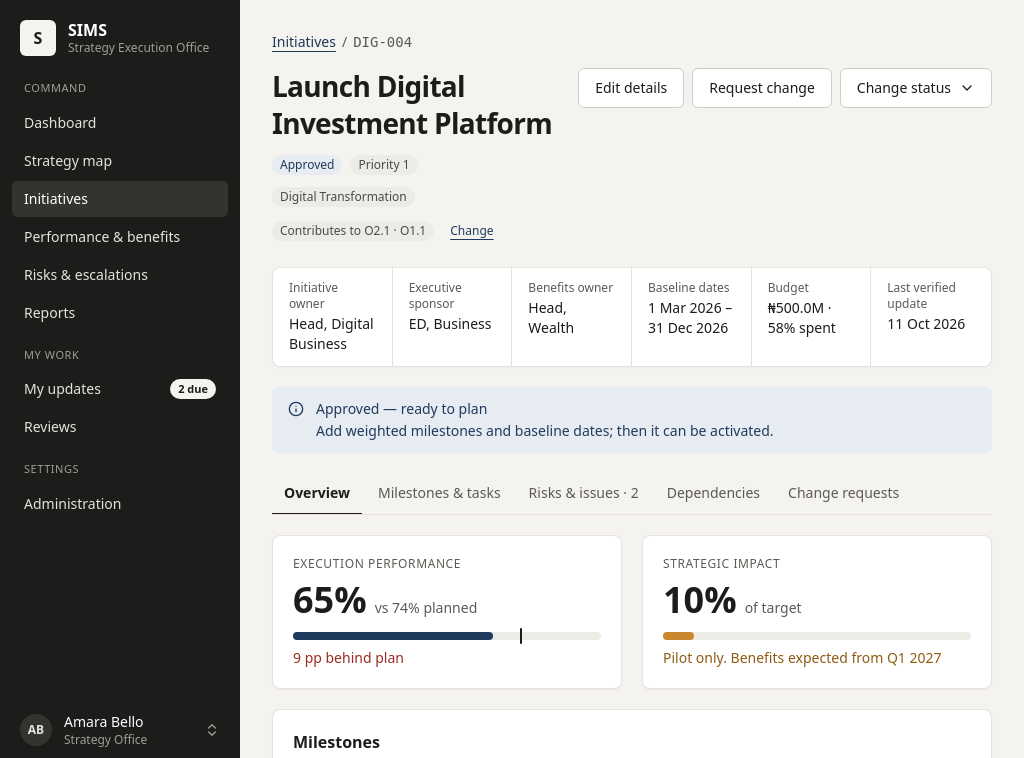
Test: Initiative detail › explains why a move was refused, without closing
Click the button "Change status" at (916, 88), box [840,68,992,108]
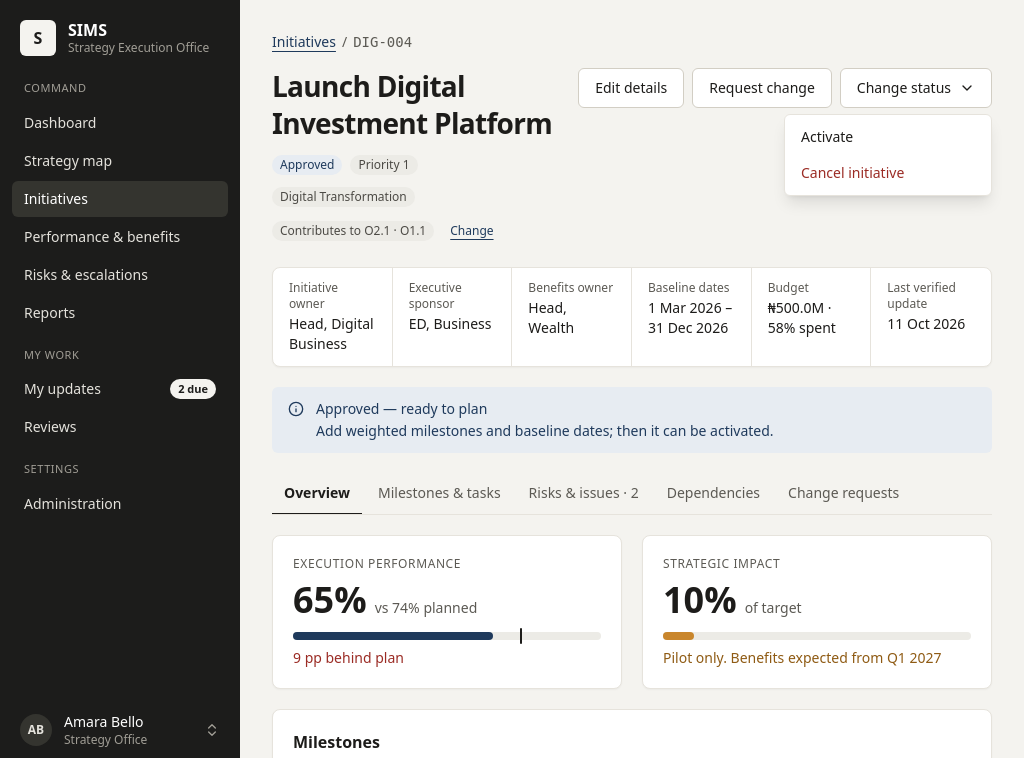
Click the menu item "Activate" at (827, 136), box [801,127,853,146]
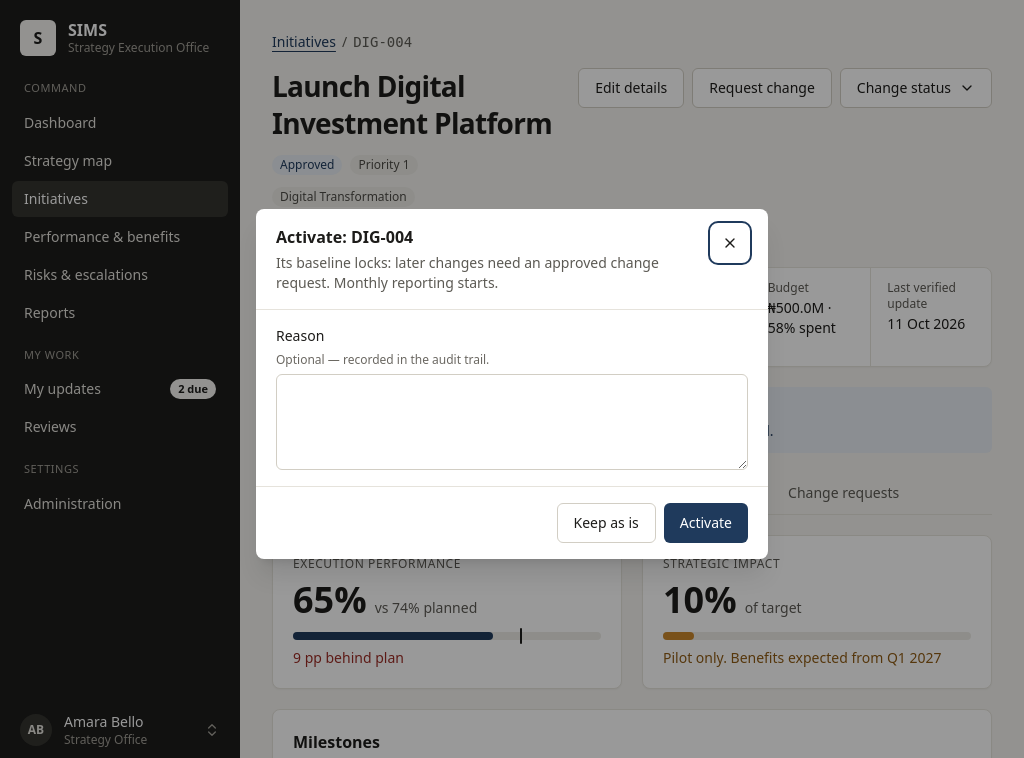
Click the button "Activate" at (706, 523), box [664,503,748,543]
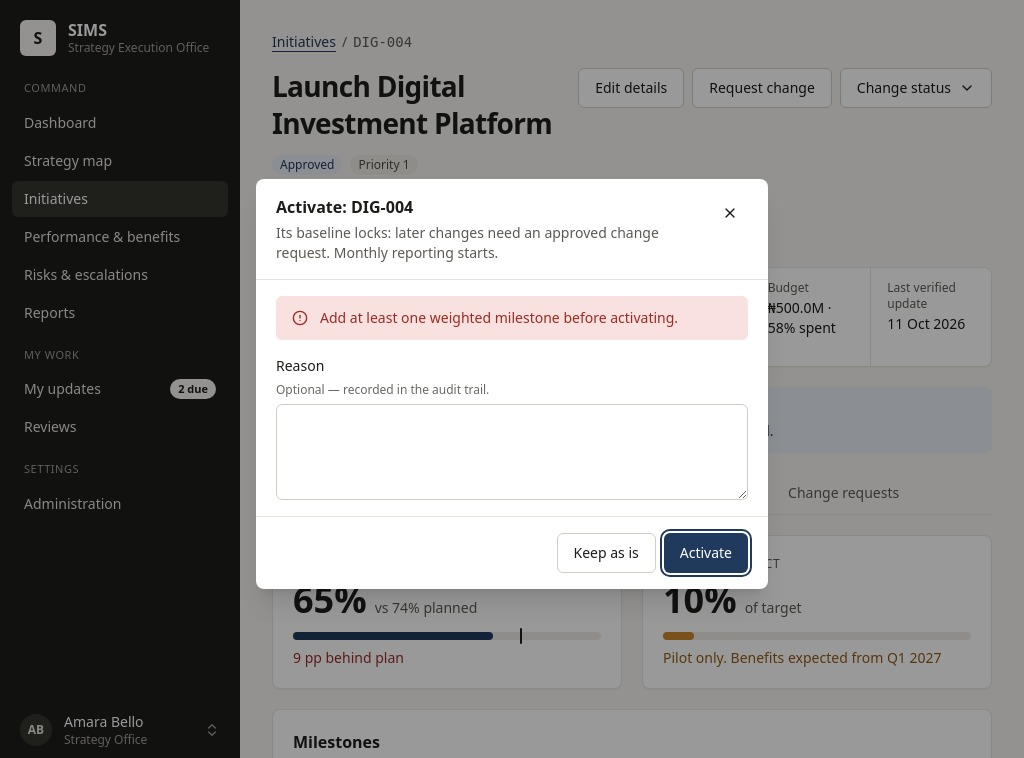
Check: the message reads "Add at least one weighted milestone before activating.", box [320,308,678,327]
